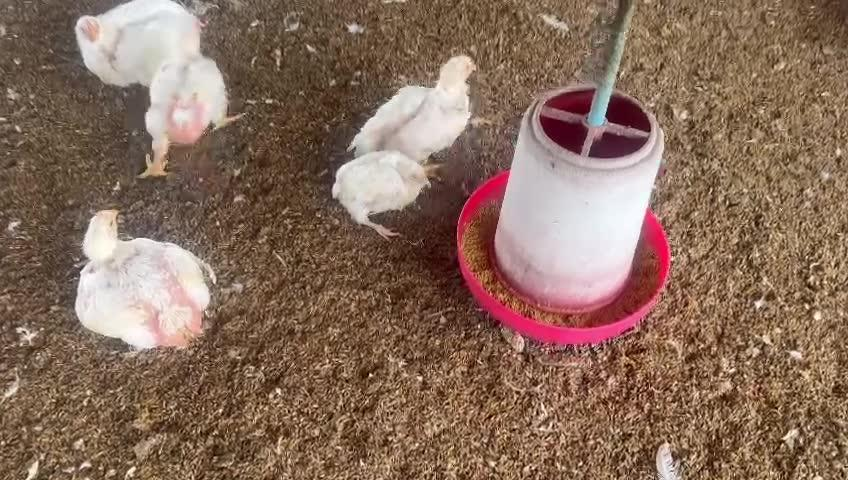AbNormal: (344, 50, 489, 170), (338, 152, 439, 242)
Normal: (65, 205, 220, 356), (138, 24, 241, 174), (64, 0, 208, 81)
